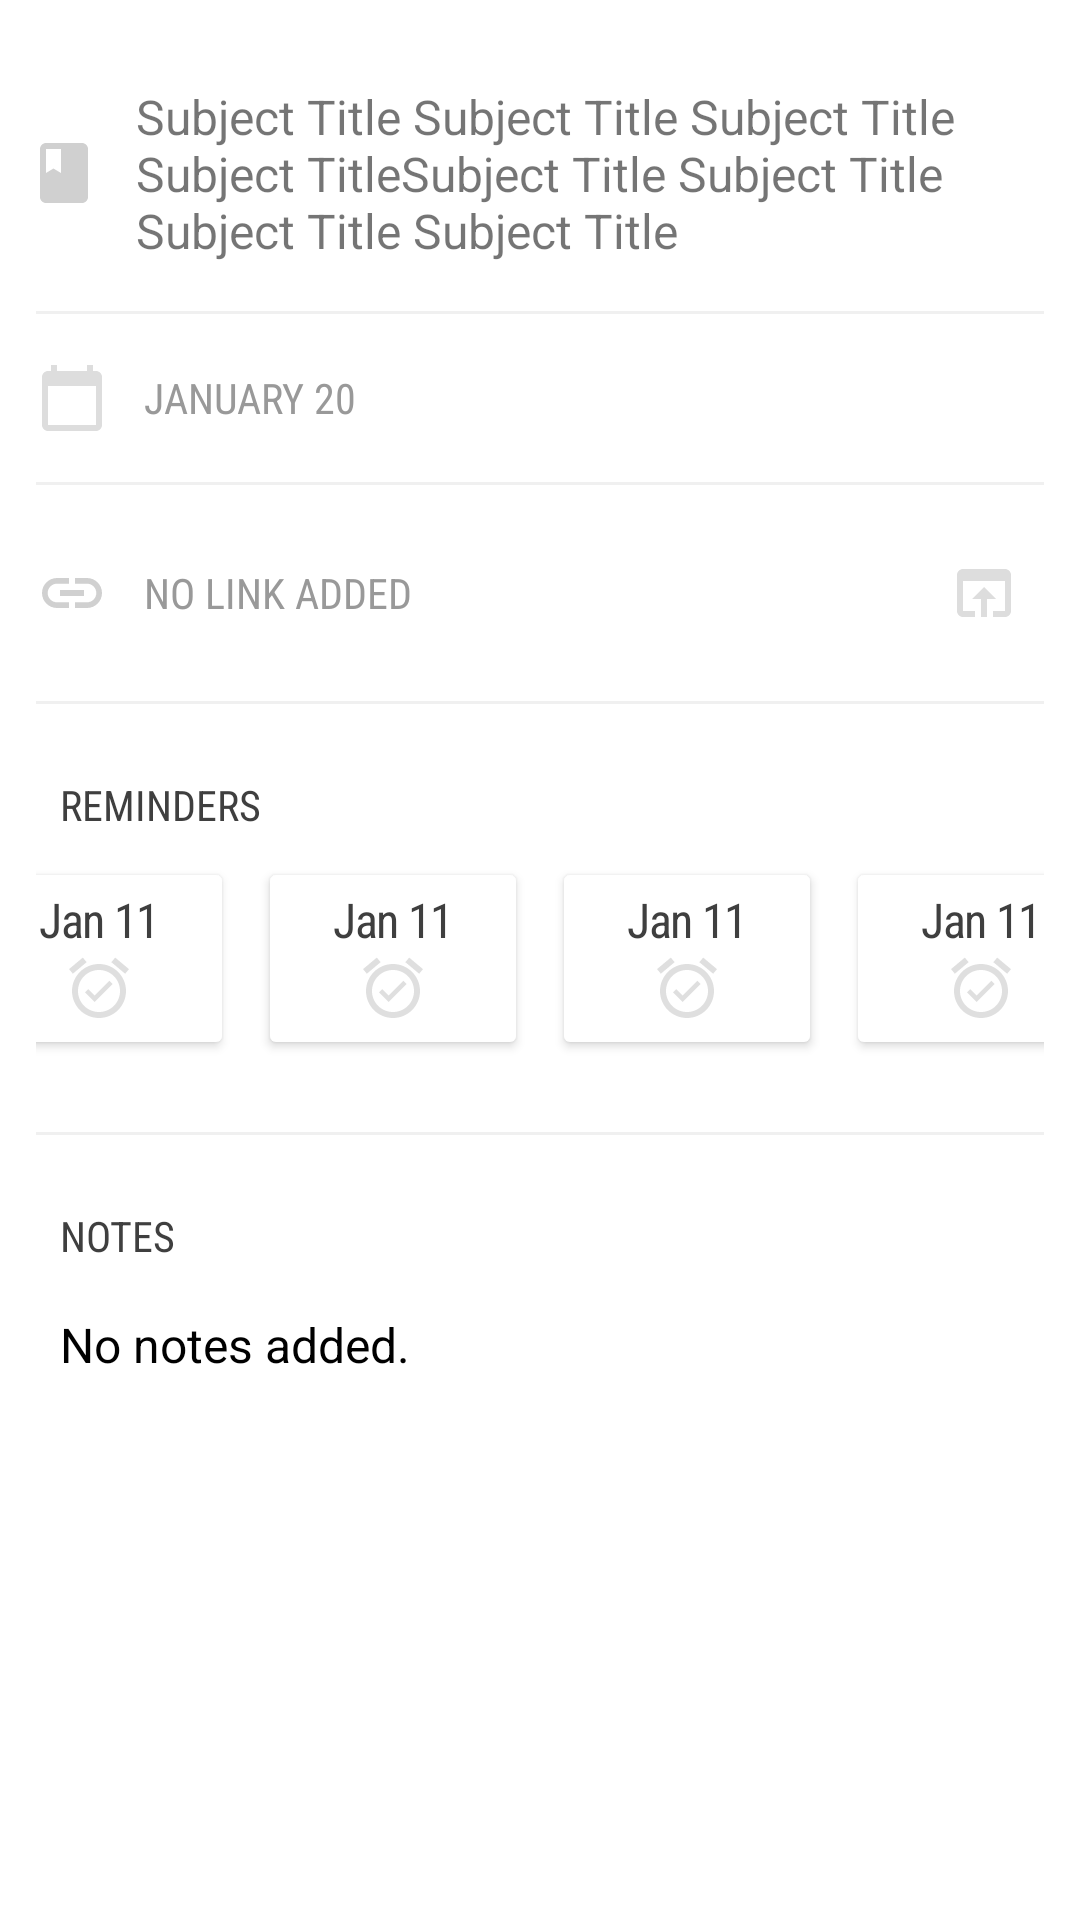

Icons on this 1080x1920 Android screen, each with the point to tap as [x,y]:
open in browser: [984,593]
